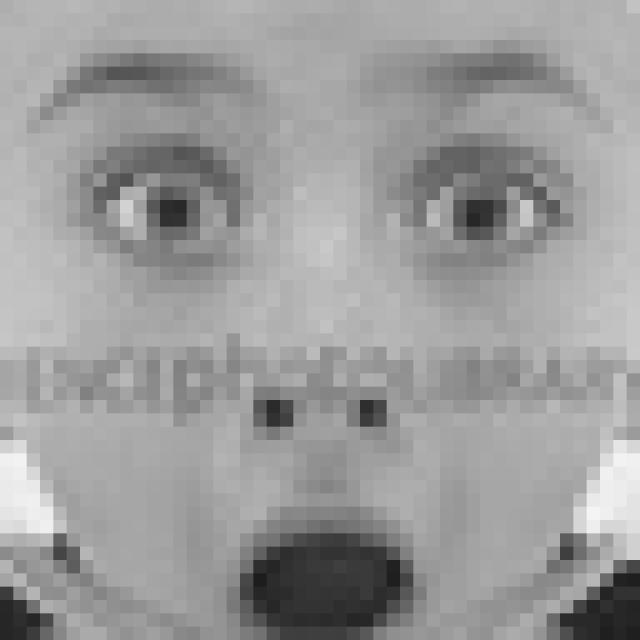surprise: (28, 42, 611, 640)
